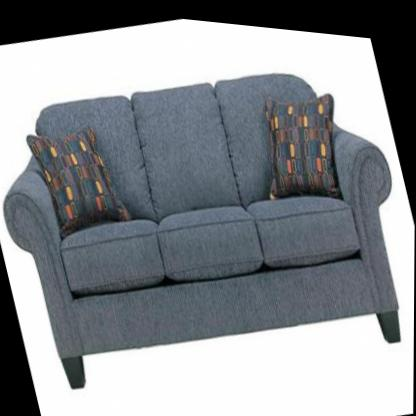Sofa: (0, 20, 416, 416)
